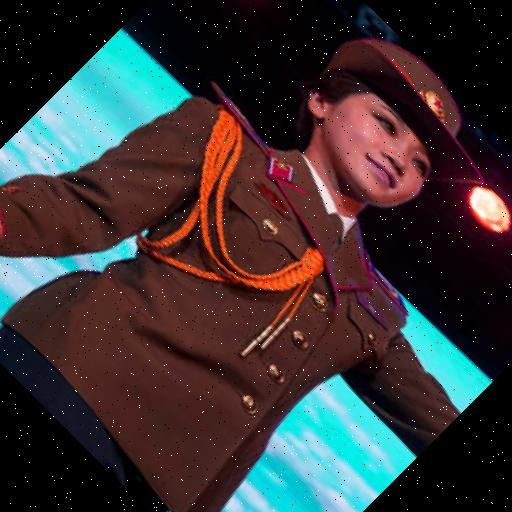north army: (77, 59, 479, 494)
